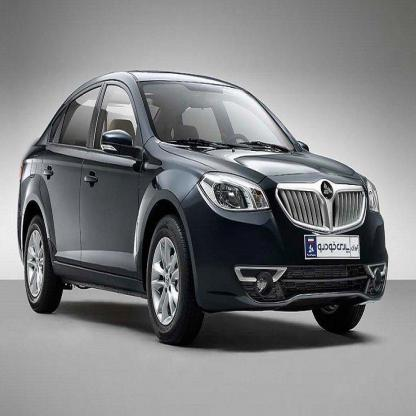Car: (18, 70, 390, 349)
